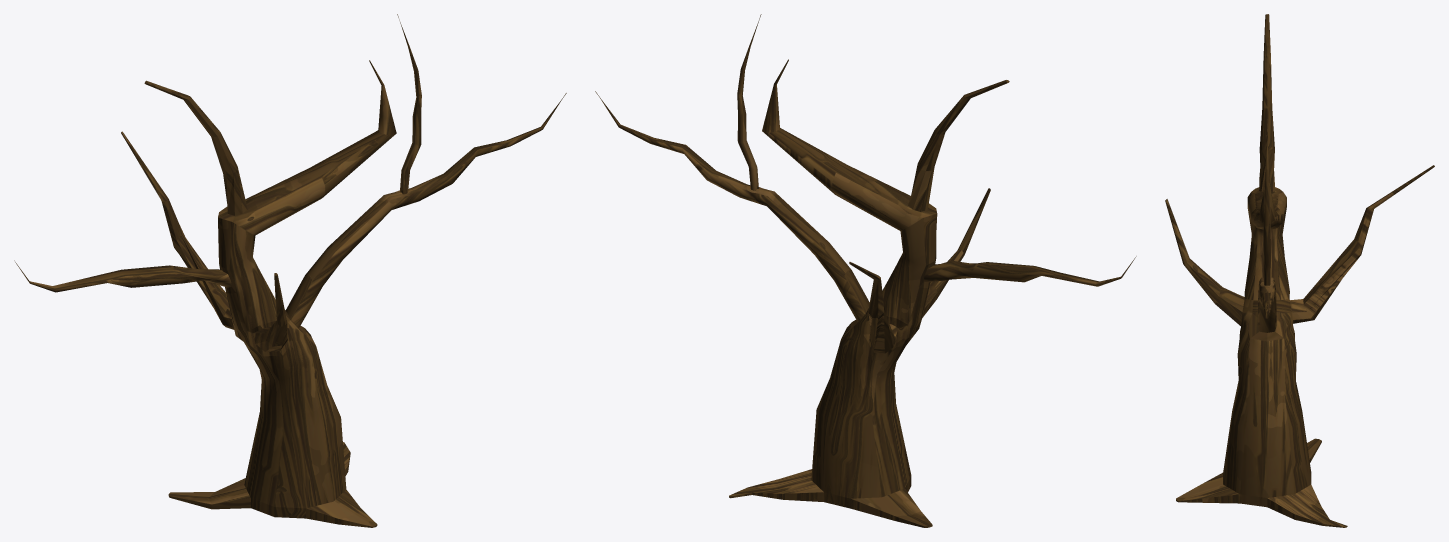
File: Dead_Tree03.fbx
3 renders of one model, left to right at view 1: azimuth 30°, elevation 25°; view 2: azimuth 150°, elevation 25°; view 3: azimuth 270°, elevation 25°, orthographic. The views are drawn at different scales.
Visible parts, largest first — view 1: Dead_Tree03; view 2: Dead_Tree03; view 3: Dead_Tree03.
Boxes of the visible parts, <box> form: Dead_Tree03: <box>14,14,566,527</box>; Dead_Tree03: <box>595,14,1136,527</box>; Dead_Tree03: <box>1165,14,1434,527</box>.
Bounding box in the file's own units: 961 × 450 × 766.
